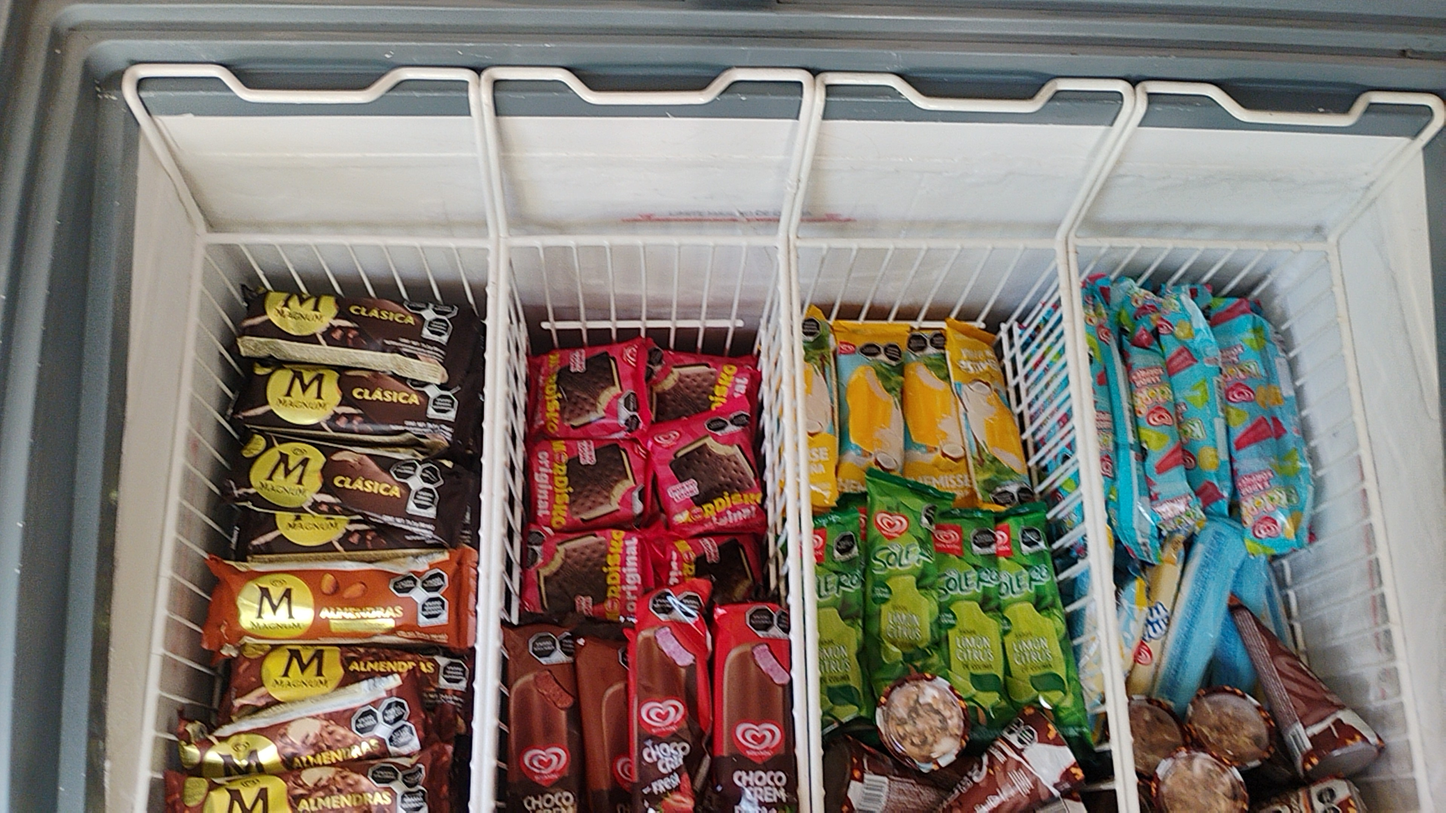Magnum clasica: (242, 430, 446, 519), (239, 362, 456, 445), (245, 287, 453, 363), (229, 497, 464, 550)
